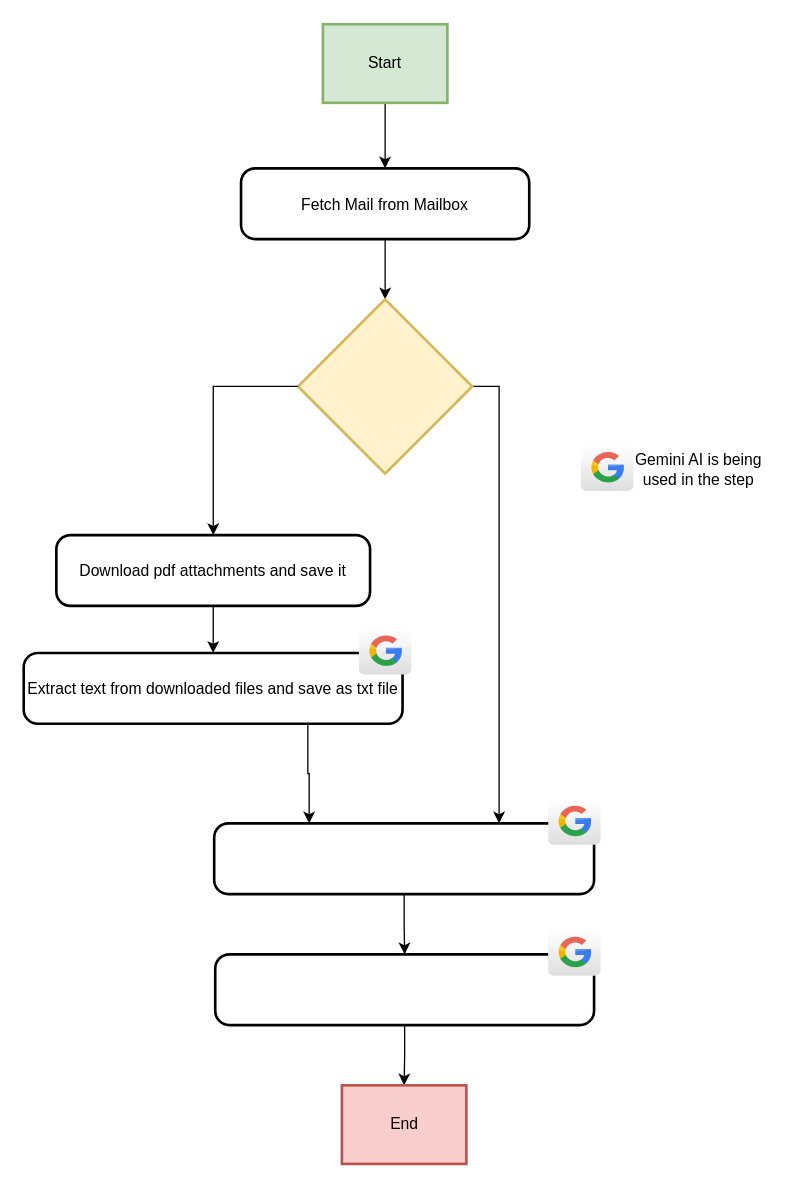
The diagram is 787 pixels wide and 1187 high, and some of its shapes have lost their labels. The centre of each missing label's shape, as x and y in pixels:
"Any Pdf attachments?" belongs at (x=384, y=385).
"Classify Request, Sub request type and Confidence %" belongs at (x=403, y=858).
"Identify Multiple Intents & Primary one from those" belongs at (x=404, y=989).
